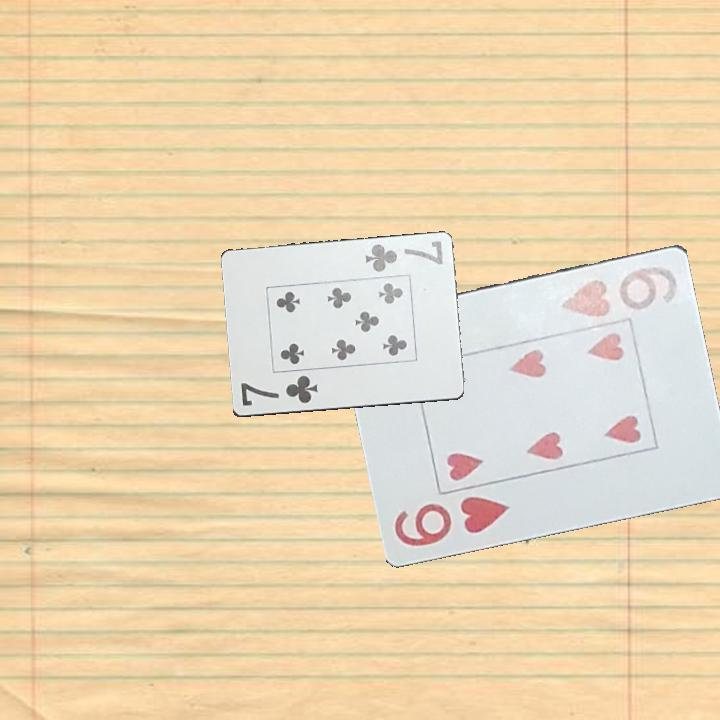6h: (555, 260, 681, 320), (391, 492, 513, 549)
7c: (361, 238, 446, 276), (237, 372, 320, 409)
